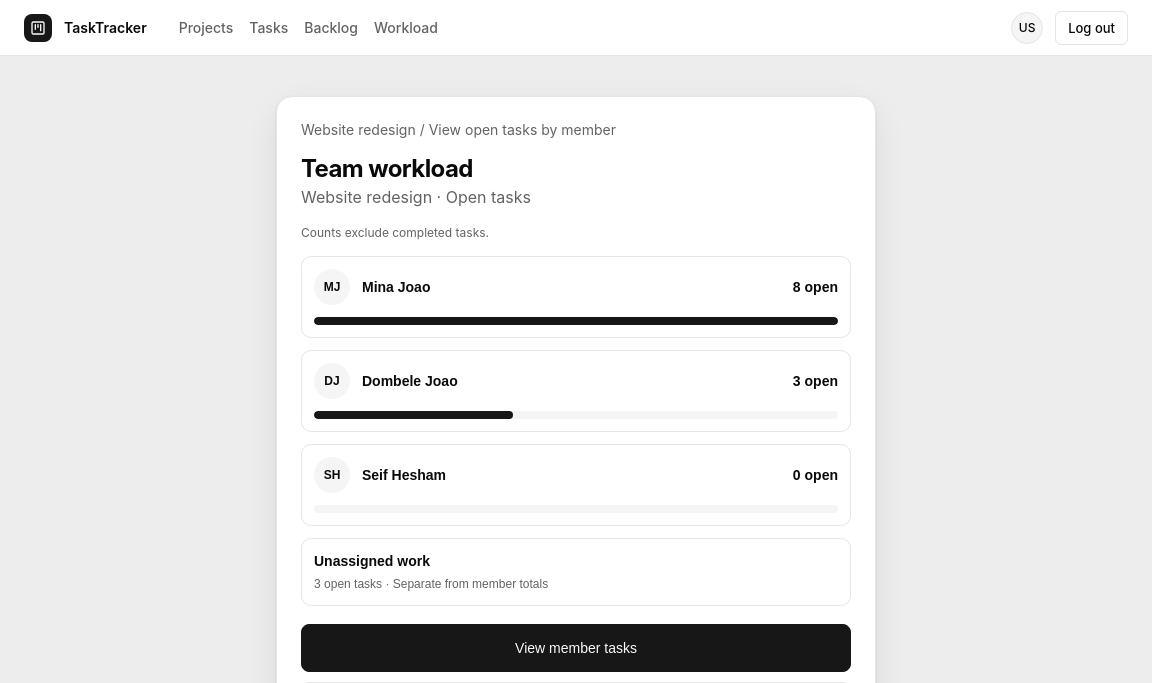
Test case: [US-29] View Open Tasks by Member (T1WOR-168) › drills down into member open tasks and supports pagination and back navigation (State 02)
Expected: the text "Website redesign / View open tasks by member" is shown, [301,121,616,139]
// Click on Mina Joao's card
What coordinates should you click on to do the following:
click the button with test id "workload-member-card-u-1"
I would click on:
 (332, 287)
Its box is [301,256,851,338].
(page scrolled)
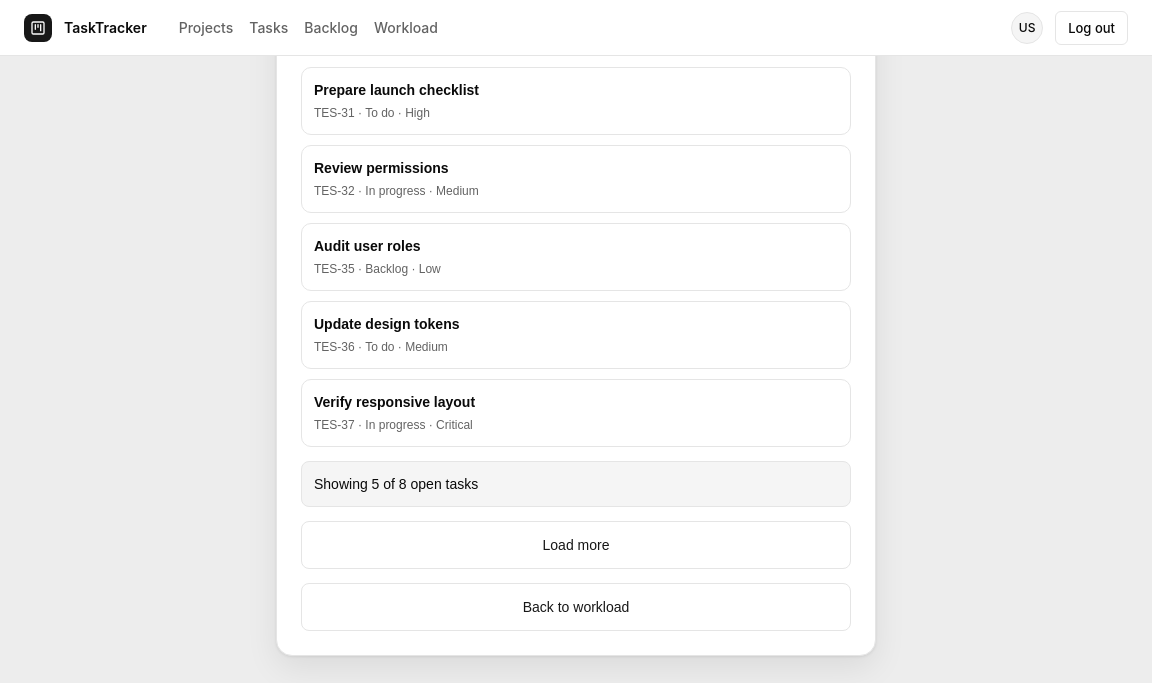
Now the element with test id "workload-drilldown-view" is shown, box [301,56,851,631]
Now the heading "Prepare launch checklist" is shown, box [314,80,479,100]
Now the text "TES-31 · To do · High" is shown, box [314,104,430,122]
// Click "Load more"
What coordinates should you click on to do the following:
click the button with test id "workload-load-more-btn"
I would click on:
 (576, 545)
Its box is [301,521,851,569].
(page scrolled)
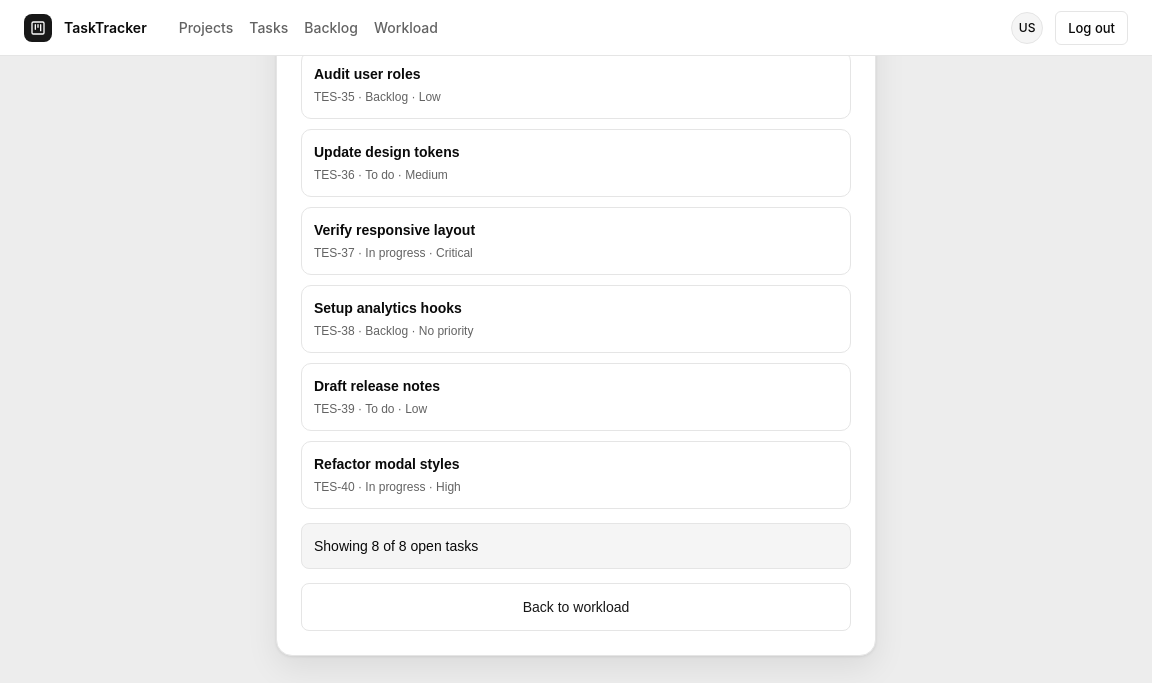
Now the text with test id "workload-showing-box" reads "Showing 8 of 8 open tasks", box [301,523,851,569]
Now the heading "Draft release notes" is shown, box [314,376,440,396]
Now the heading "Refactor modal styles" is shown, box [314,454,460,474]
// Click "Back to workload"
What coordinates should you click on to do the following:
click the button with test id "workload-back-btn"
I would click on:
 (576, 607)
Its box is [301,583,851,631].
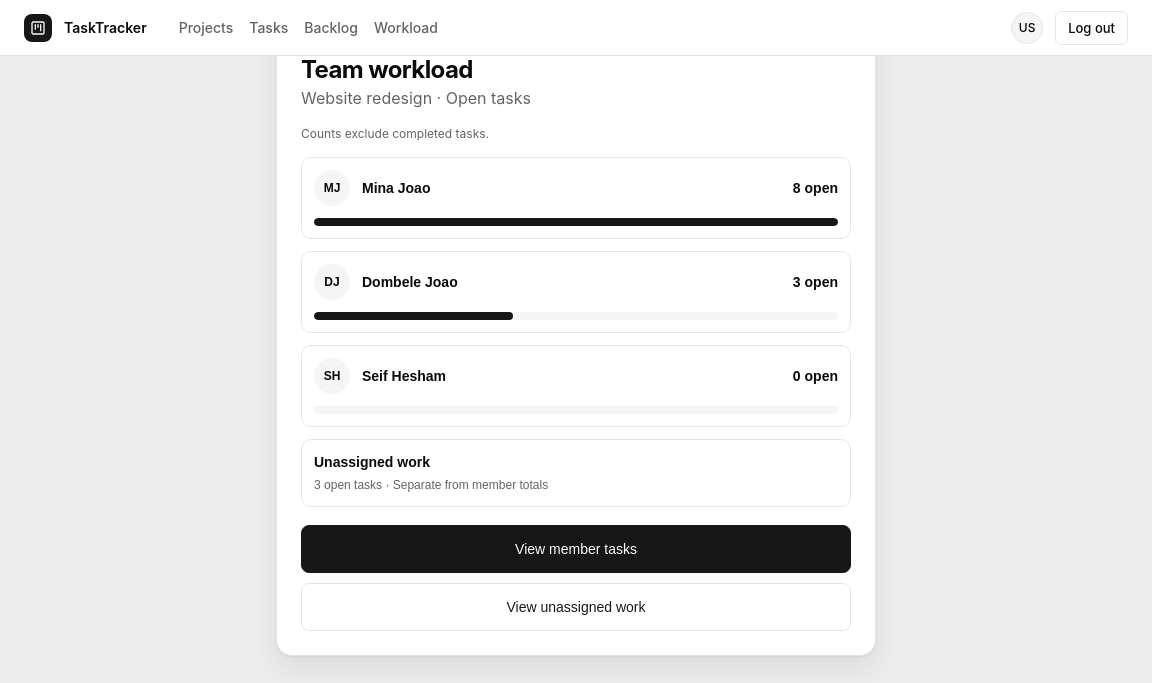
Now the element with test id "workload-comparison-list" is shown, box [301,157,851,631]
